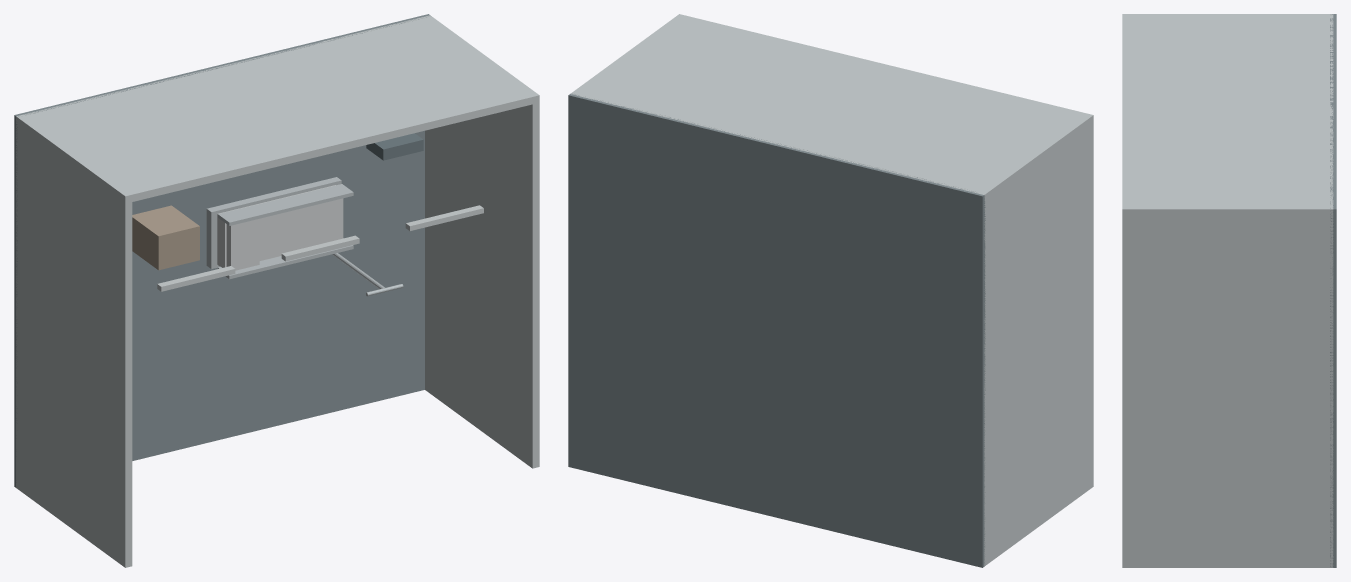
The model's file is patient-room-medium.glb.
3 views of the same model, side by side, from view 1: azimuth 30°, elevation 25°; view 2: azimuth 150°, elevation 25°; view 3: azimuth 270°, elevation 25° (orthographic). The views are drawn at different scales.
Parts seen in each view (by area): view 1: floor, wall_back, wall_left, wall_right, bed, bedside_table, bed_rail_right, bed_frame, pillow, monitor, bed_rail_left, ceiling_panel_1 (+2 smaller); view 2: floor, wall_back, wall_left, wall_right; view 3: wall_right, wall_back, floor, wall_left.
Boxes of the visible parts, x1,y1,x2,y2 form: floor: (14,14,430,487); wall_back: (16,16,538,201); wall_left: (16,114,132,567); wall_right: (424,15,539,468); bed: (217,185,343,267); bedside_table: (132,205,199,270); bed_rail_right: (218,184,353,225); bed_frame: (206,177,341,268); pillow: (226,219,259,270); monitor: (366,133,423,160); bed_rail_left: (218,245,353,279); ceiling_panel_1: (157,266,235,291); floor: (568,93,985,567); wall_back: (572,14,1093,201); wall_left: (977,113,1093,565); wall_right: (571,14,685,95); wall_right: (1122,206,1333,567); wall_back: (1122,14,1333,216); floor: (1330,14,1336,567); wall_left: (1122,14,1333,17).
Size of the model in its own units: 7 by 6 by 3.25.
